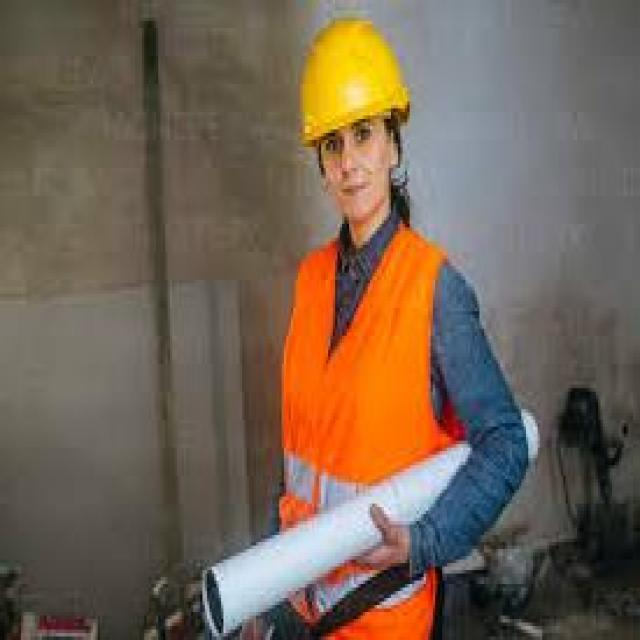Reflective-Jacket: (268, 224, 466, 629)
Safety-Helmet: (291, 11, 416, 158)
